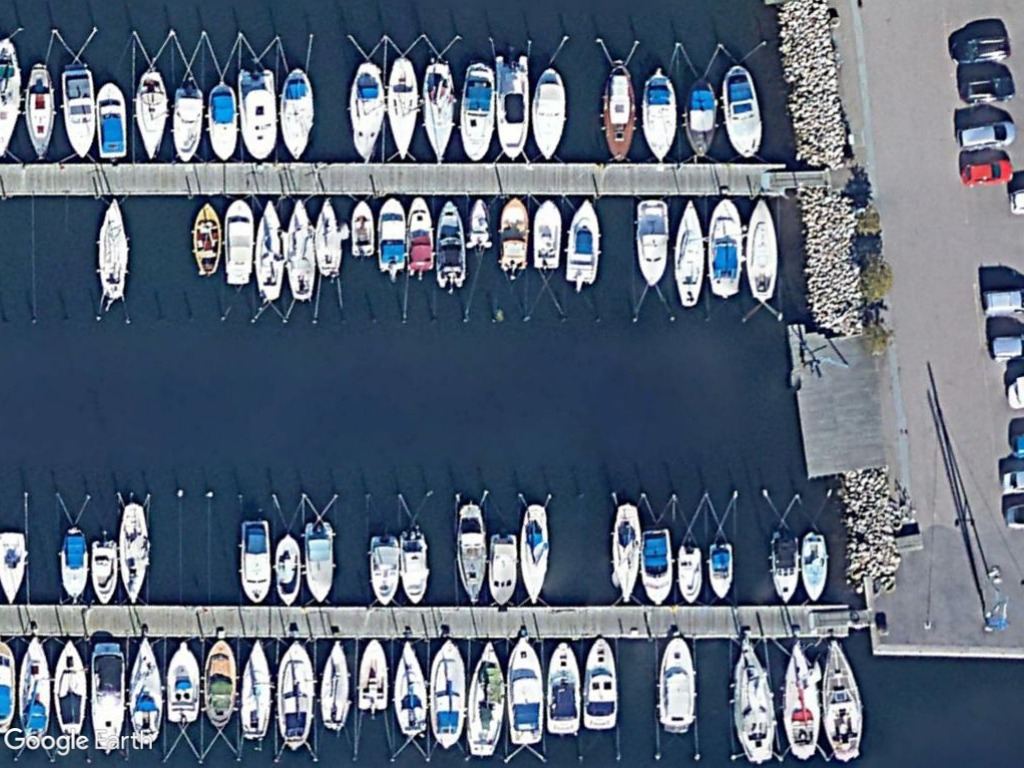boat: (726, 635, 777, 766), (815, 633, 864, 764), (775, 634, 822, 765), (83, 639, 129, 757), (271, 635, 316, 754), (465, 638, 509, 759), (489, 49, 535, 164), (503, 633, 548, 749), (652, 630, 701, 736), (718, 60, 766, 164), (10, 630, 52, 746), (427, 634, 468, 752), (232, 65, 279, 167), (417, 57, 461, 165), (740, 190, 781, 305), (512, 497, 553, 611), (598, 57, 640, 168), (54, 61, 99, 164), (454, 59, 497, 166), (49, 634, 91, 743), (273, 65, 319, 164), (278, 195, 319, 306), (344, 57, 386, 165), (636, 68, 681, 168), (671, 192, 708, 312), (389, 634, 430, 741), (22, 60, 63, 167), (541, 635, 584, 737), (131, 66, 175, 165), (250, 193, 289, 304), (705, 192, 743, 303), (578, 631, 619, 733), (561, 192, 603, 291), (126, 635, 163, 747), (383, 52, 421, 161), (115, 494, 152, 605), (235, 635, 272, 744), (95, 194, 131, 305), (528, 66, 569, 163), (235, 512, 276, 606), (161, 635, 202, 728), (631, 193, 668, 296), (430, 197, 470, 292), (316, 636, 354, 735), (679, 78, 723, 162), (454, 497, 488, 605), (200, 78, 243, 163), (608, 499, 641, 609), (219, 194, 256, 292), (300, 515, 338, 610), (370, 190, 409, 279), (202, 635, 237, 732), (636, 526, 675, 610), (93, 78, 131, 163), (168, 80, 205, 167), (493, 191, 531, 275), (396, 523, 432, 611), (363, 528, 401, 610), (353, 635, 391, 715), (310, 194, 345, 280), (187, 198, 222, 280), (527, 192, 562, 273), (403, 193, 436, 277), (57, 520, 90, 603), (796, 530, 830, 607), (487, 531, 519, 611), (767, 535, 800, 611), (272, 528, 304, 604), (0, 528, 31, 606), (701, 538, 737, 605), (343, 195, 377, 262), (675, 538, 705, 608), (88, 535, 118, 605)
car: (942, 33, 1013, 67), (956, 116, 1018, 153), (960, 70, 1018, 106), (957, 155, 1016, 189)
